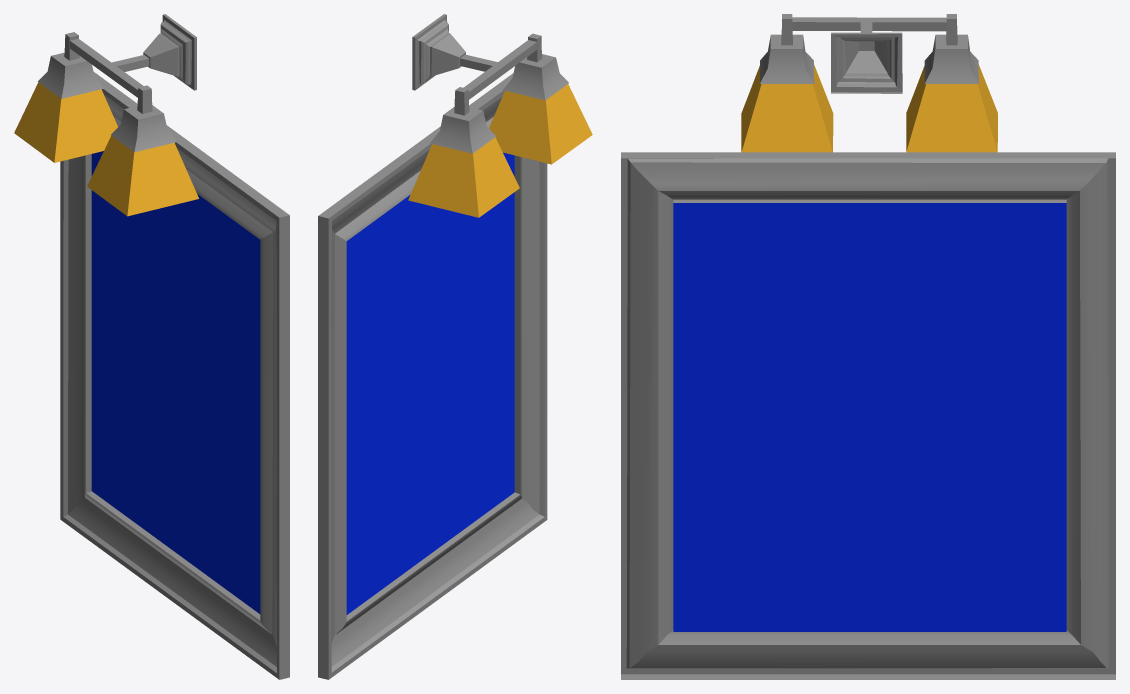
The model's file is SM_Mirror_A1.FBX.
The picture shows the model from 3 angles, left to right: view 1: azimuth 30°, elevation 25°; view 2: azimuth 150°, elevation 25°; view 3: azimuth 270°, elevation 25°; orthographic projection. The views are drawn at different scales.
Parts seen in each view (by area): view 1: SM_Mirror_A1; view 2: SM_Mirror_A1; view 3: SM_Mirror_A1.
Boxes of the visible parts, left/top/right/bottom form: SM_Mirror_A1: left=14, top=14, right=289, bottom=679; SM_Mirror_A1: left=318, top=14, right=592, bottom=679; SM_Mirror_A1: left=621, top=14, right=1115, bottom=679.
Bounding box in the file's own units: 22.89 × 79.45 × 114.
